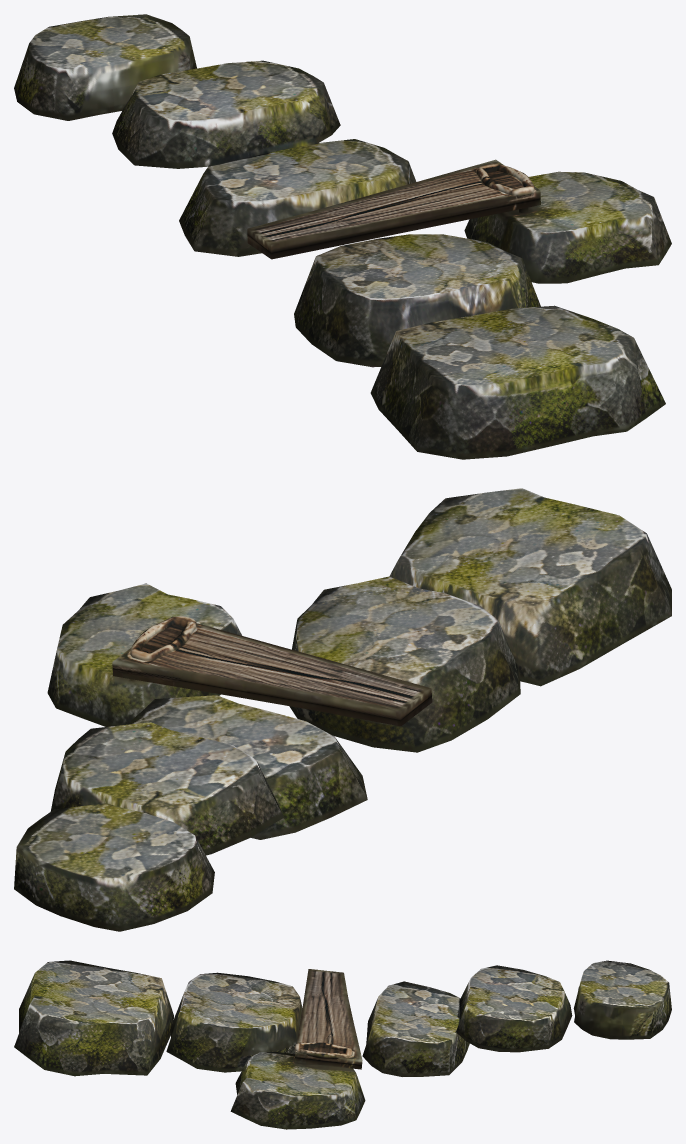
The model's file is act1_kit_v1_stepping_ford.glb.
3 renders of one model, top to bottom at view 1: azimuth 30°, elevation 25°; view 2: azimuth 150°, elevation 25°; view 3: azimuth 270°, elevation 25°, orthographic. The views are drawn at different scales.
Parts seen in each view (by area): view 1: act1_kit_v1_stepping_ford; view 2: act1_kit_v1_stepping_ford; view 3: act1_kit_v1_stepping_ford.
Boxes of the visible parts, x1,y1,x2,y2 form: act1_kit_v1_stepping_ford: [14, 14, 671, 459]; act1_kit_v1_stepping_ford: [14, 488, 671, 931]; act1_kit_v1_stepping_ford: [14, 960, 671, 1129].
Bounding box in the file's own units: 0.4756 × 0.1012 × 1.
1 material, 1 textured.
